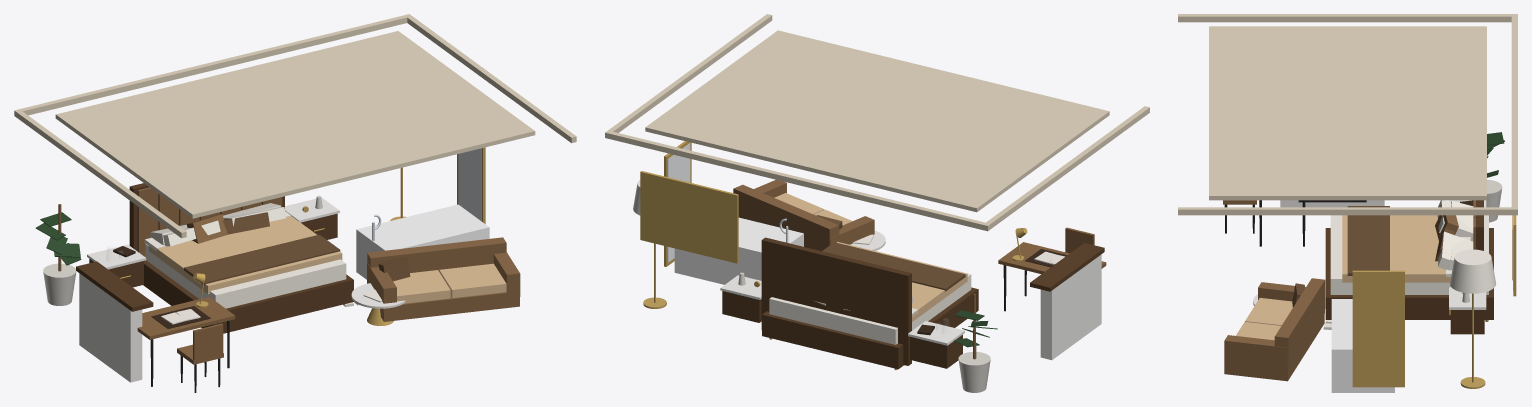
The model's file is penthouse-suite.glb.
The picture shows the model from 3 angles, left to right: view 1: azimuth 30°, elevation 25°; view 2: azimuth 150°, elevation 25°; view 3: azimuth 270°, elevation 25°; orthographic projection. The views are drawn at different scales.
Visible parts, largest first — view 1: ArchitecturalShell, BedGroup, sofa, fireplace, duvet, bathtub, bed, PottedPlant, desk, DeskChair, mirror, Nightstand_R (+4 smaller); view 2: ArchitecturalShell, BedGroup, FramedArtwork, fireplace, sofa, bathtub, bed, Nightstand_L, PottedPlant, Nightstand_R, duvet, desk (+4 smaller); view 3: ArchitecturalShell, sofa, VanityMirror, BedGroup, duvet, bathtub, FloorLamp, bed, Nightstand_R, PottedPlant, fireplace, pillow_4 (+2 smaller).
Part boxes in pixels (x1=…): ArchitecturalShell: x1=14, y1=14, x2=576, y2=238; BedGroup: x1=129, y1=183, x2=353, y2=333; sofa: x1=367, y1=237, x2=520, y2=321; fireplace: x1=76, y1=261, x2=153, y2=382; duvet: x1=149, y1=216, x2=342, y2=294; bathtub: x1=356, y1=204, x2=489, y2=279; bed: x1=145, y1=243, x2=346, y2=308; PottedPlant: x1=35, y1=204, x2=81, y2=305; desk: x1=137, y1=297, x2=235, y2=339; DeskChair: x1=177, y1=323, x2=223, y2=392; mirror: x1=458, y1=148, x2=481, y2=220; Nightstand_R: x1=285, y1=195, x2=339, y2=239; ArchitecturalShell: x1=605, y1=14, x2=1149, y2=231; BedGroup: x1=761, y1=237, x2=978, y2=369; FramedArtwork: x1=640, y1=171, x2=738, y2=263; fireplace: x1=1030, y1=243, x2=1104, y2=360; sofa: x1=733, y1=179, x2=874, y2=251; bathtub: x1=674, y1=217, x2=803, y2=284; bed: x1=769, y1=273, x2=971, y2=344; Nightstand_L: x1=908, y1=321, x2=964, y2=368; PottedPlant: x1=954, y1=294, x2=997, y2=392; Nightstand_R: x1=720, y1=272, x2=761, y2=322; duvet: x1=837, y1=242, x2=967, y2=321; desk: x1=998, y1=242, x2=1106, y2=274; ArchitecturalShell: x1=1178, y1=14, x2=1517, y2=215; sofa: x1=1224, y1=278, x2=1325, y2=381; VanityMirror: x1=1352, y1=270, x2=1404, y2=387; BedGroup: x1=1325, y1=200, x2=1493, y2=321; duvet: x1=1342, y1=215, x2=1450, y2=282; bathtub: x1=1331, y1=299, x2=1394, y2=392; FloorLamp: x1=1450, y1=249, x2=1495, y2=388; bed: x1=1330, y1=215, x2=1488, y2=294; Nightstand_R: x1=1449, y1=287, x2=1486, y2=334; PottedPlant: x1=1486, y1=132, x2=1504, y2=222; fireplace: x1=1280, y1=200, x2=1384, y2=207; pillow_4: x1=1438, y1=231, x2=1469, y2=269.
Size of the model in its own units: 6.02 by 2.71 by 4.4.
